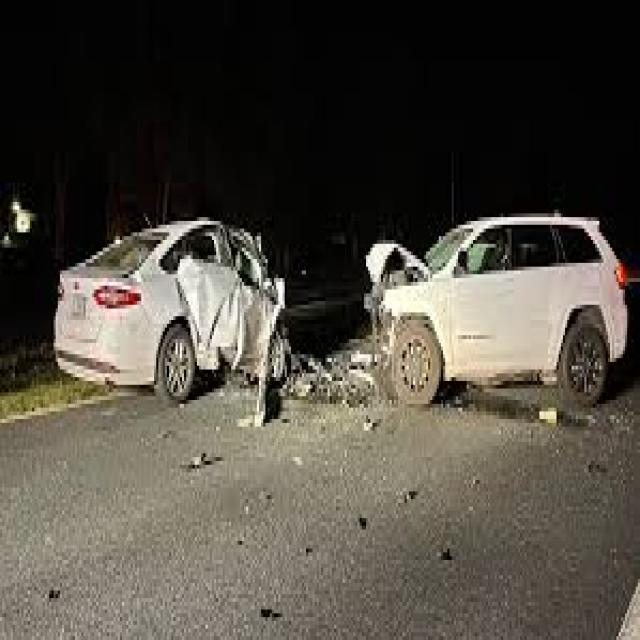accident: (12, 121, 635, 493), (353, 194, 640, 442), (52, 185, 309, 421)
